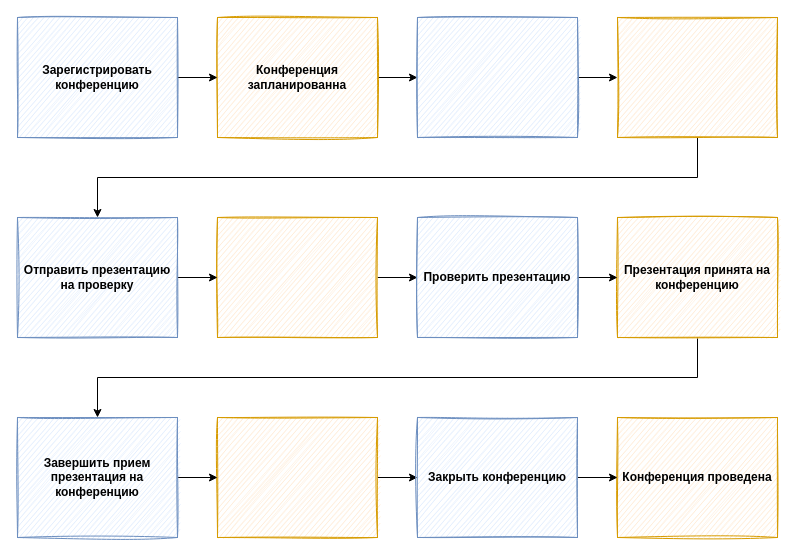
This 795x555 diagram has some shape labels left out. The shapes that lost their labels are listed below. From the top down, each one's centre as x and y in pixels, then its label:
the point at 497,77: Зарегистрировать докладчика
the point at 697,77: Докладчик зарегистрирован
the point at 297,277: Презентация отправлена
the point at 297,477: Сформирована программа конференции
